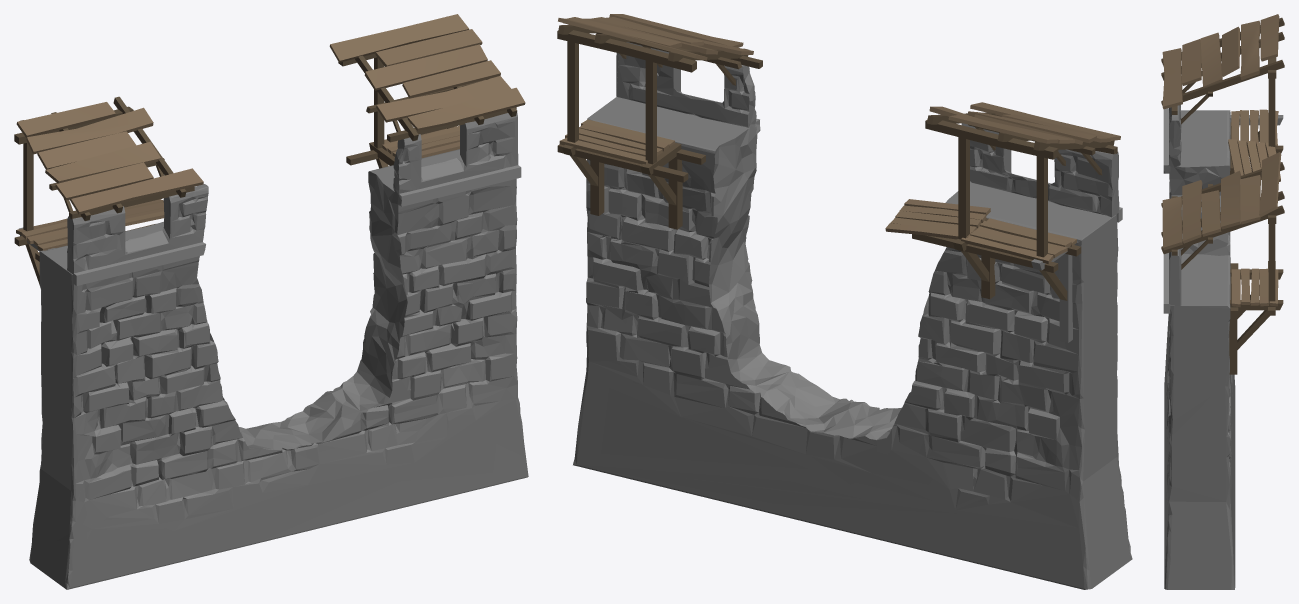
File: castle_battlement_c3_destroyed.FBX
3 views of the same model, side by side, from view 1: azimuth 30°, elevation 25°; view 2: azimuth 150°, elevation 25°; view 3: azimuth 270°, elevation 25° (orthographic). The views are drawn at different scales.
Visible parts, largest first — view 1: castle_battlement_c3_destroyed; view 2: castle_battlement_c3_destroyed; view 3: castle_battlement_c3_destroyed.
Boxes of the visible parts, x1,y1,x2,y2 form: castle_battlement_c3_destroyed: (14, 14, 528, 589); castle_battlement_c3_destroyed: (557, 14, 1132, 589); castle_battlement_c3_destroyed: (1161, 14, 1284, 589).
Size of the model in its own units: 15.63 by 13.55 by 3.99.
